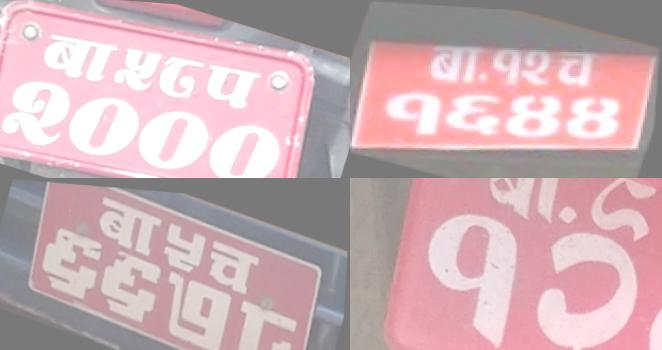0: (39, 25, 115, 87)
1: (400, 197, 546, 350), (0, 71, 74, 149), (376, 80, 452, 144), (483, 39, 529, 90)
2: (516, 214, 656, 350), (516, 43, 558, 87)
4: (559, 82, 627, 147), (498, 82, 568, 145)
5: (158, 213, 211, 276)
6: (31, 220, 110, 305), (95, 243, 169, 327), (442, 84, 512, 143), (112, 40, 161, 91)
7: (153, 266, 243, 350)
8: (227, 290, 309, 350), (201, 55, 263, 110)
9: (578, 178, 662, 244)
ba: (468, 178, 579, 230), (91, 188, 166, 257), (420, 31, 489, 87)
cha: (62, 83, 145, 163), (134, 98, 216, 176), (204, 109, 287, 178), (201, 231, 268, 296), (547, 38, 604, 91)
pa: (154, 49, 207, 101)
